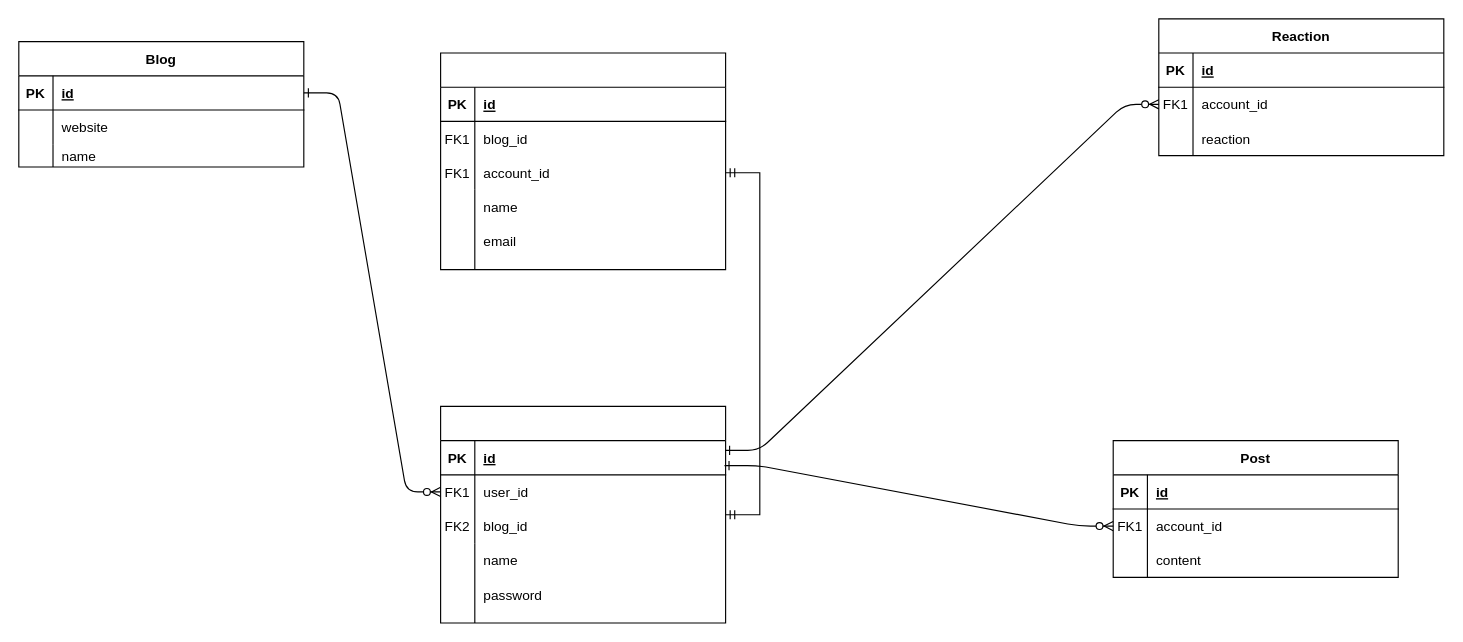
Some shapes in this 1463 by 642 pixel diagram are drawn without their labels. Each missing label, with the box of its shape:
Account: (439, 405, 726, 623)
User: (439, 52, 726, 270)
